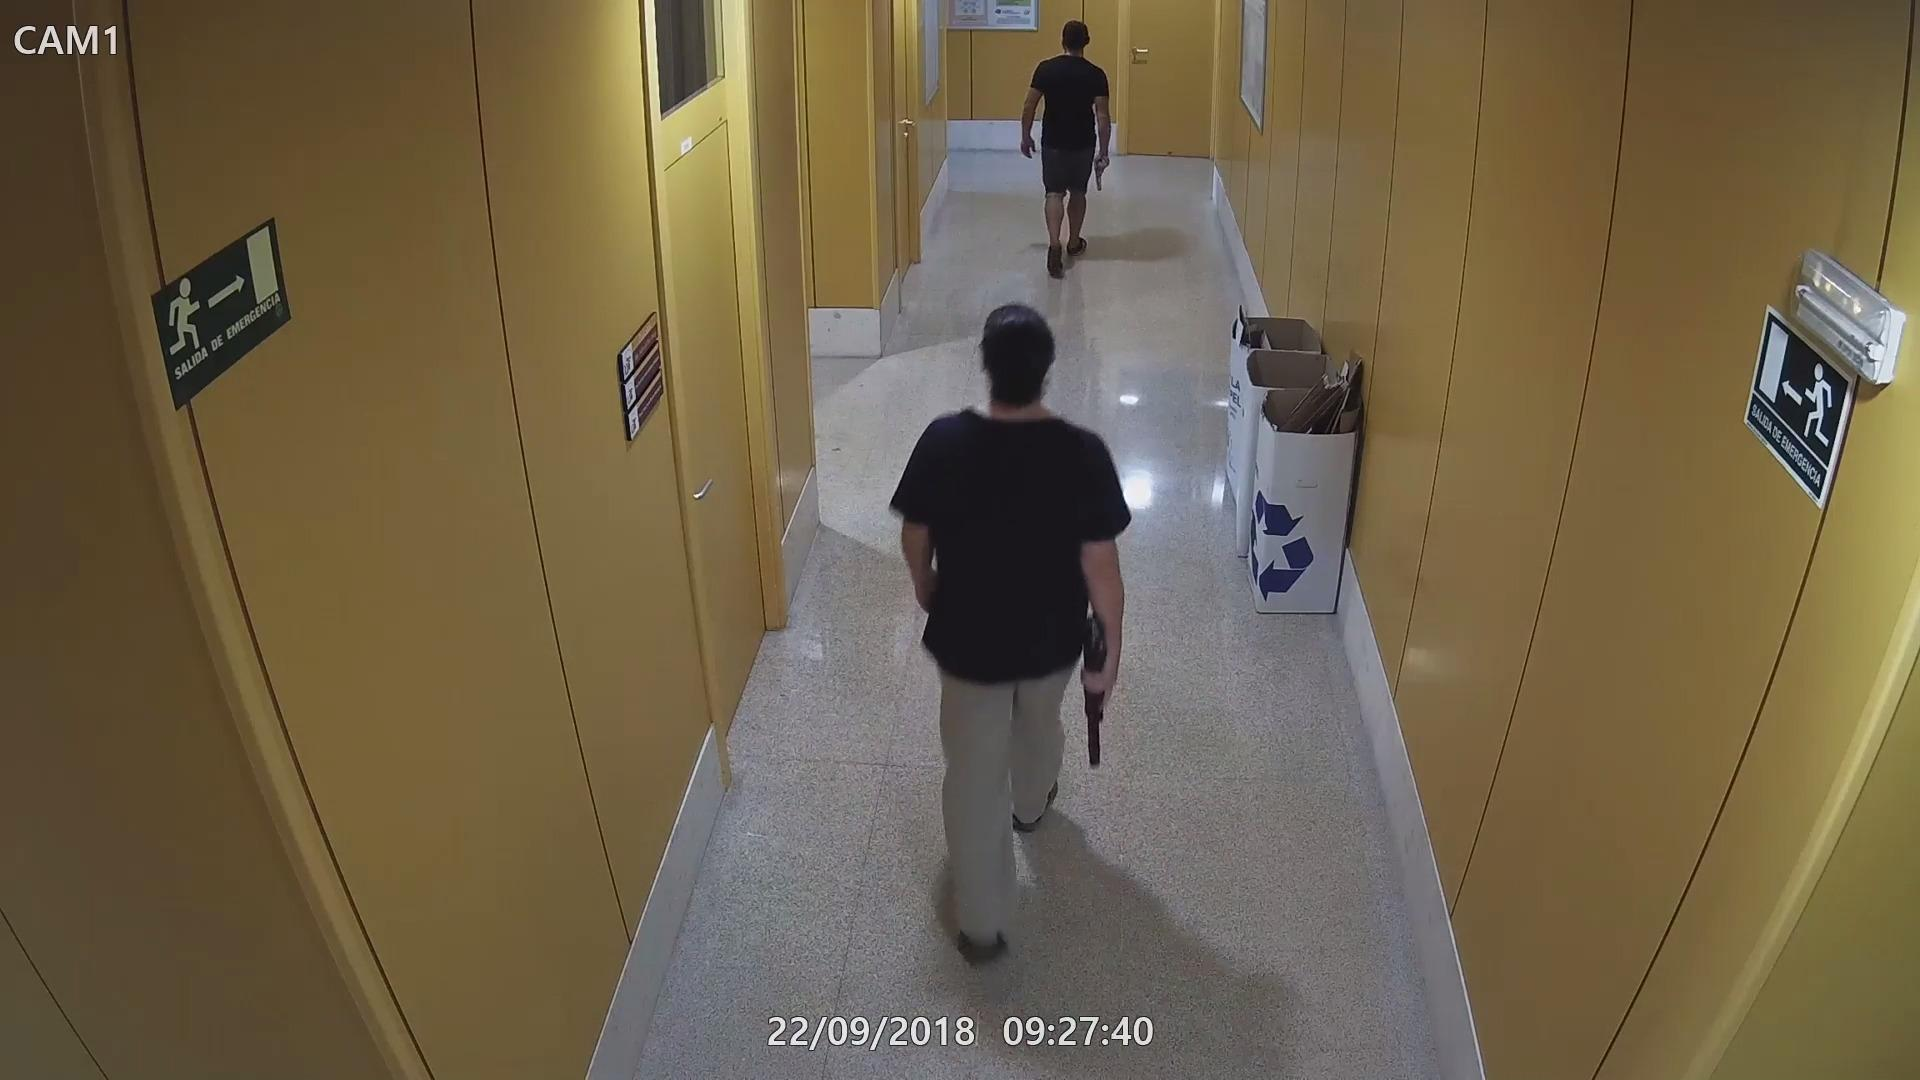Handgun: (1088, 150, 1114, 191)
